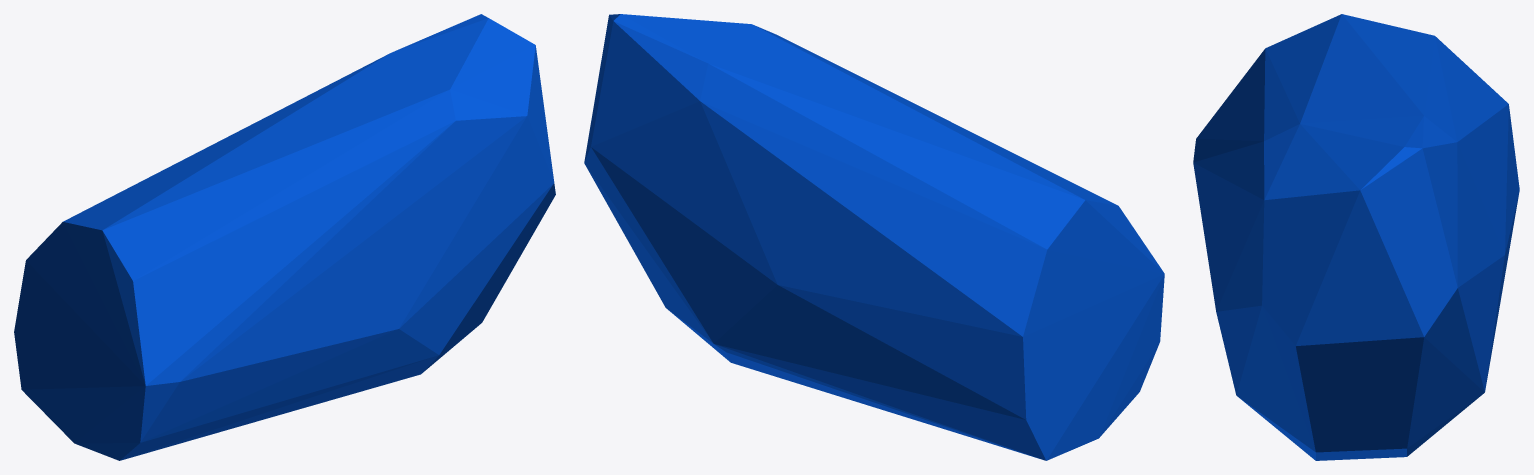
Rendered from shin_convex_piece_001.obj.
3 views of the same model, side by side, from view 1: azimuth 30°, elevation 25°; view 2: azimuth 150°, elevation 25°; view 3: azimuth 270°, elevation 25° (orthographic). The views are drawn at different scales.
Size of the model in its own units: 0.1144 by 0.0725 by 0.0566.
